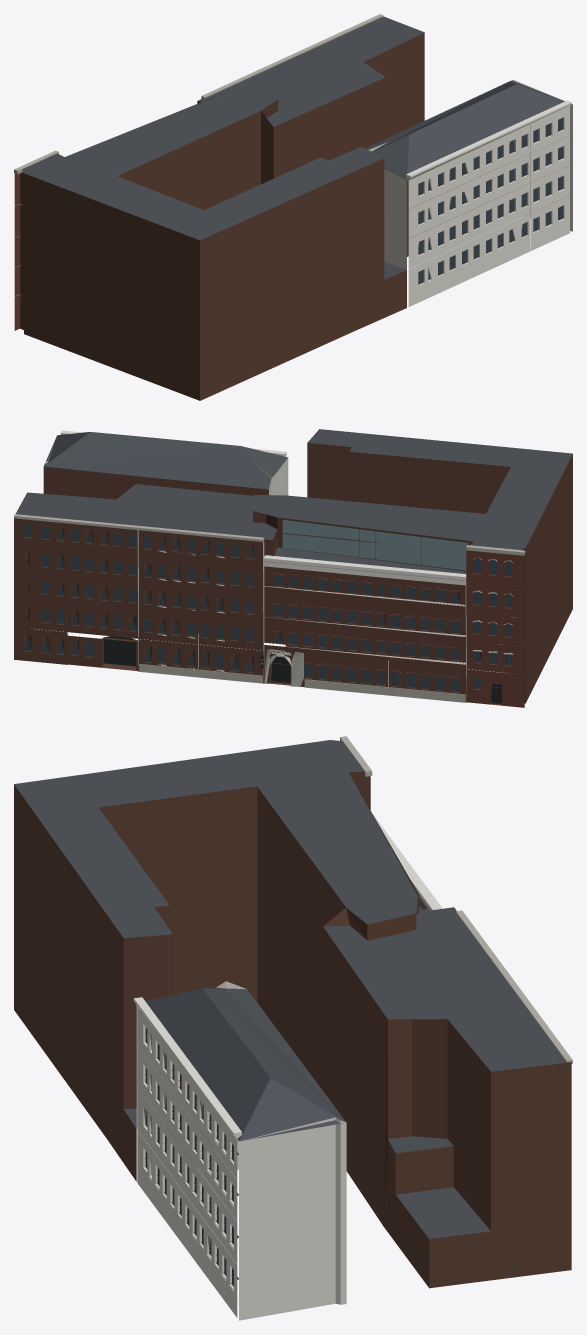
The model's file is crea.lod1.glb.
The picture shows the model from 3 angles, top to bottom: view 1: azimuth 30°, elevation 25°; view 2: azimuth 150°, elevation 25°; view 3: azimuth 270°, elevation 25°; orthographic projection. The views are drawn at different scales.
Parts seen in each view (by area): view 1: crea; view 2: crea; view 3: crea.
Boxes of the visible parts, x1,y1,x2,y2 form: crea: [14, 14, 572, 400]; crea: [14, 429, 572, 707]; crea: [14, 736, 572, 1320].
Bounding box in the file's own units: 66.18 × 19.6 × 43.74.
